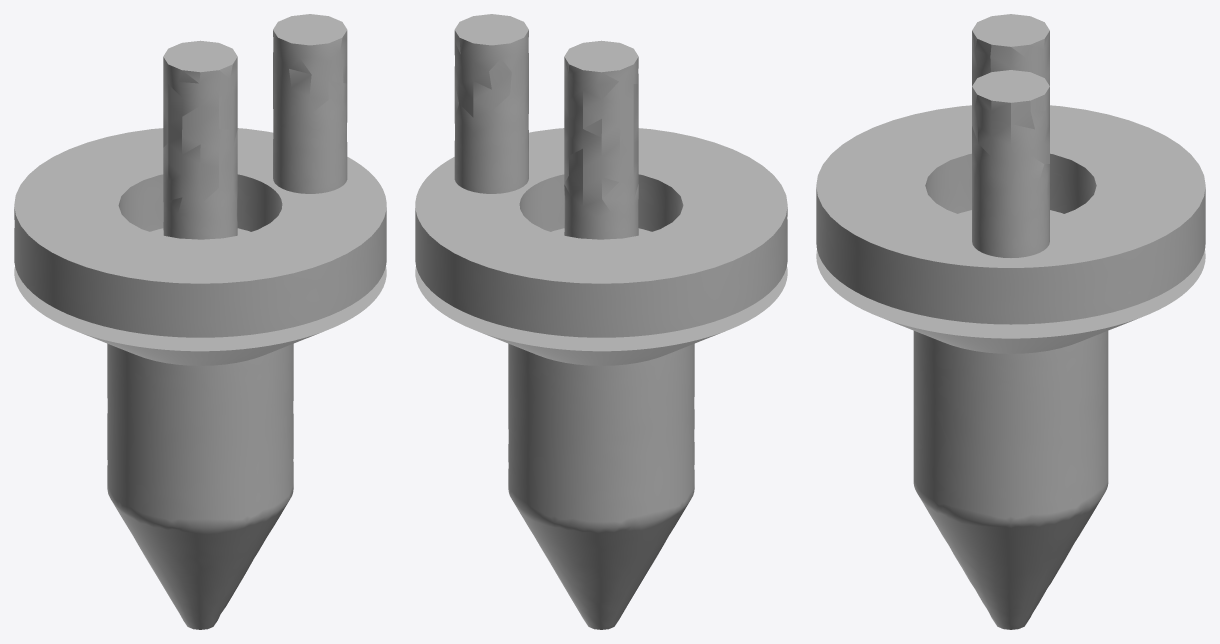
The picture shows the model from 3 angles, left to right: view 1: azimuth 30°, elevation 25°; view 2: azimuth 150°, elevation 25°; view 3: azimuth 270°, elevation 25°; orthographic projection. The views are drawn at different scales.
Bounding box in the file's own units: 25 × 42 × 25.
1 material, 1 textured.
